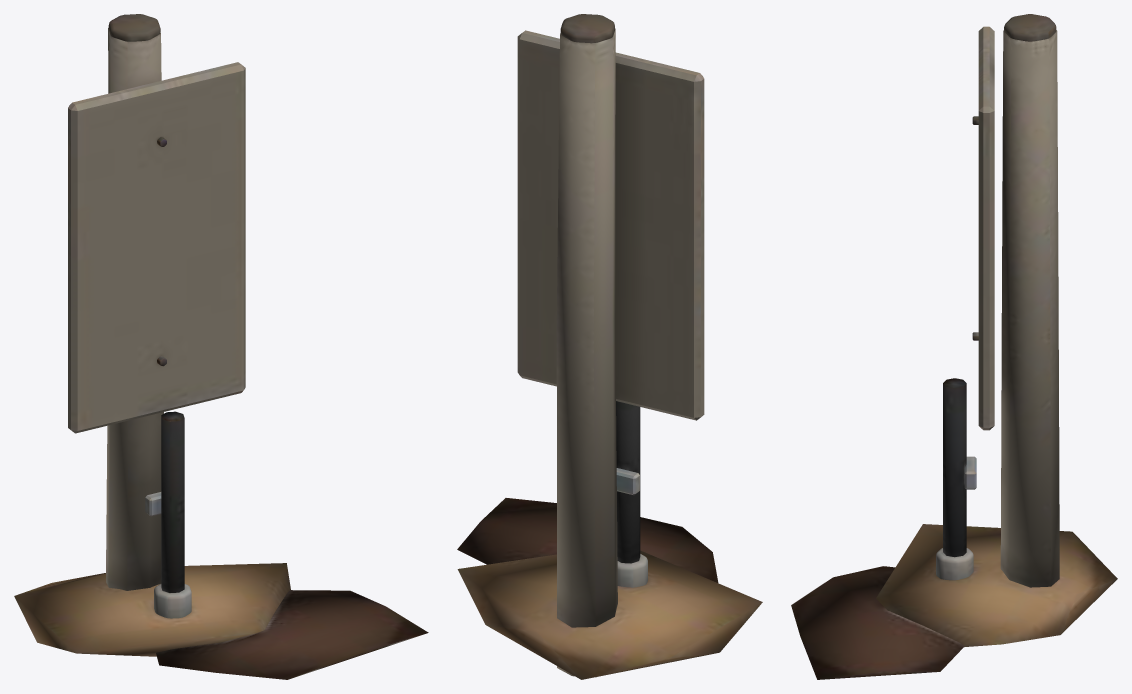
The model's file is valve_stand.glb.
3 views of the same model, side by side, from view 1: azimuth 30°, elevation 25°; view 2: azimuth 150°, elevation 25°; view 3: azimuth 270°, elevation 25° (orthographic). The views are drawn at different scales.
Visible parts, largest first — view 1: valve_stand; view 2: valve_stand; view 3: valve_stand.
Boxes of the visible parts, left/top/right/bottom form: valve_stand: left=14, top=14, right=428, bottom=679; valve_stand: left=457, top=14, right=762, bottom=679; valve_stand: left=791, top=14, right=1117, bottom=679.
Size of the model in its own units: 0.8553 by 1.67 by 0.8236.
1 material, 1 textured.
